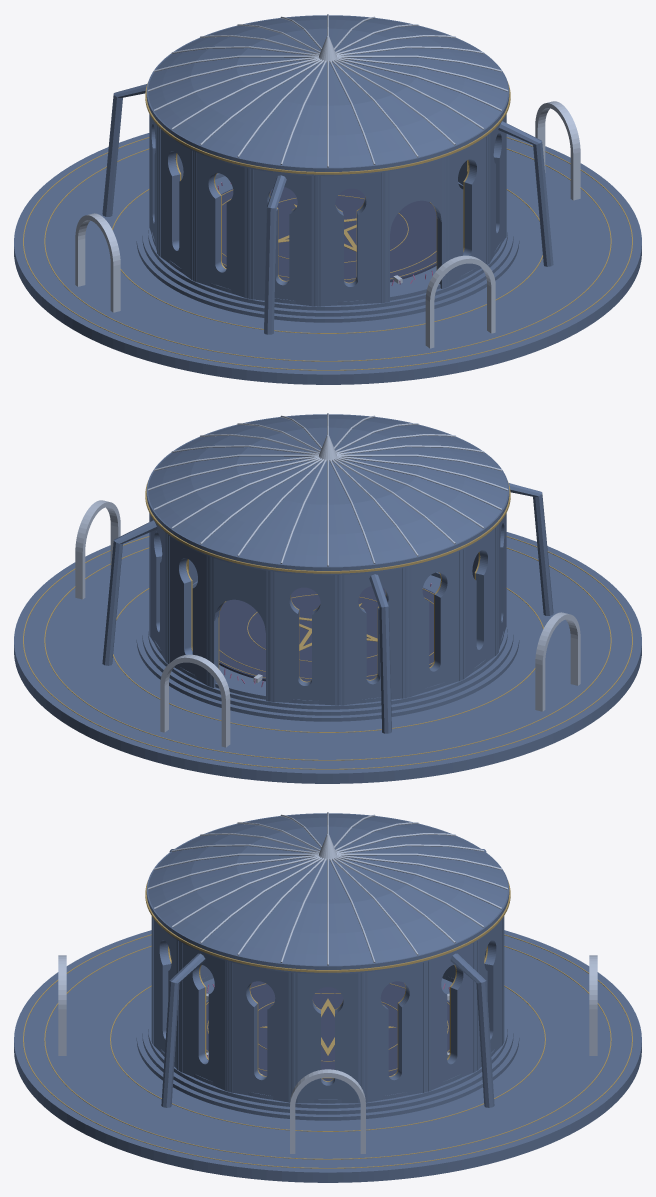
3 views of the same model, one above another, from view 1: azimuth 30°, elevation 25°; view 2: azimuth 150°, elevation 25°; view 3: azimuth 270°, elevation 25° (orthographic).
Visible parts, largest first — view 1: TERRACE_finite_base, ROOF_hollow_dome, WALL_15_perforated, DANCE_floor, WALL_14_perforated, WALL_13_perforated, WALL_01_perforated, WALL_12_perforated, HALL_step_00, ROOF_drum, HALL_step_01, WALL_02_perforated (+21 smaller); view 2: TERRACE_finite_base, ROOF_hollow_dome, WALL_09_perforated, DANCE_floor, WALL_10_perforated, WALL_11_perforated, WALL_07_perforated, WALL_12_perforated, HALL_step_00, ROOF_drum, HALL_step_01, WALL_06_perforated (+21 smaller); view 3: TERRACE_finite_base, ROOF_hollow_dome, WALL_03_perforated, WALL_05_perforated, WALL_04_perforated, WALL_02_perforated, WALL_06_perforated, DANCE_floor, ROOF_drum, HALL_step_00, HALL_step_01, WALL_01_perforated (+19 smaller).
Part boxes in pixels (left/top/right/bottom): TERRACE_finite_base: left=14, top=133, right=641, bottom=384; ROOF_hollow_dome: left=148, top=16, right=507, bottom=167; WALL_15_perforated: left=317, top=172, right=384, bottom=306; DANCE_floor: left=221, top=187, right=436, bottom=282; WALL_14_perforated: left=249, top=168, right=315, bottom=306; WALL_13_perforated: left=194, top=151, right=247, bottom=298; WALL_01_perforated: left=446, top=135, right=488, bottom=287; WALL_12_perforated: left=158, top=127, right=192, bottom=280; HALL_step_00: left=136, top=210, right=519, bottom=322; ROOF_drum: left=146, top=15, right=509, bottom=176; HALL_step_01: left=142, top=214, right=513, bottom=316; WALL_02_perforated: left=488, top=114, right=506, bottom=263; TERRACE_finite_base: left=14, top=532, right=641, bottom=783; ROOF_hollow_dome: left=148, top=415, right=507, bottom=566; WALL_09_perforated: left=271, top=571, right=338, bottom=705; DANCE_floor: left=219, top=586, right=434, bottom=681; WALL_10_perforated: left=340, top=567, right=406, bottom=705; WALL_11_perforated: left=408, top=550, right=461, bottom=697; WALL_07_perforated: left=167, top=534, right=209, bottom=686; WALL_12_perforated: left=463, top=526, right=497, bottom=679; HALL_step_00: left=136, top=609, right=519, bottom=721; ROOF_drum: left=146, top=414, right=509, bottom=575; HALL_step_01: left=142, top=613, right=513, bottom=715; WALL_06_perforated: left=149, top=513, right=167, bottom=662; TERRACE_finite_base: left=14, top=930, right=641, bottom=1182; ROOF_hollow_dome: left=148, top=814, right=507, bottom=965; WALL_03_perforated: left=229, top=962, right=292, bottom=1102; WALL_05_perforated: left=363, top=962, right=426, bottom=1102; WALL_04_perforated: left=294, top=973, right=361, bottom=1103; WALL_02_perforated: left=179, top=942, right=227, bottom=1091; WALL_06_perforated: left=428, top=942, right=476, bottom=1091; DANCE_floor: left=206, top=981, right=449, bottom=1080; ROOF_drum: left=146, top=813, right=509, bottom=974; HALL_step_00: left=136, top=1005, right=519, bottom=1120; HALL_step_01: left=142, top=1009, right=513, bottom=1114; WALL_01_perforated: left=152, top=917, right=178, bottom=1070.
Bounding box in the file's own units: 22 × 8.35 × 22.
